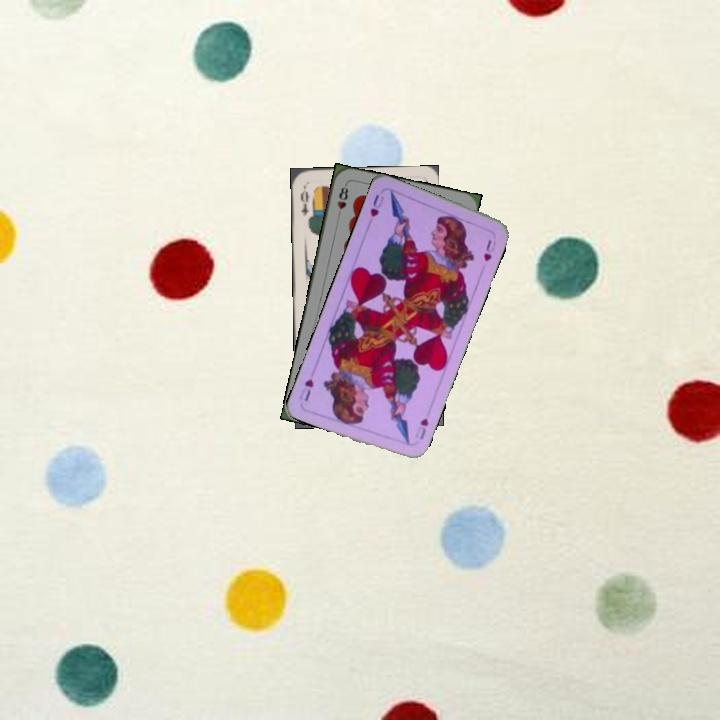EO: (296, 183, 312, 218)
H8: (333, 181, 351, 221)
HU: (364, 191, 387, 228), (411, 414, 431, 442)
